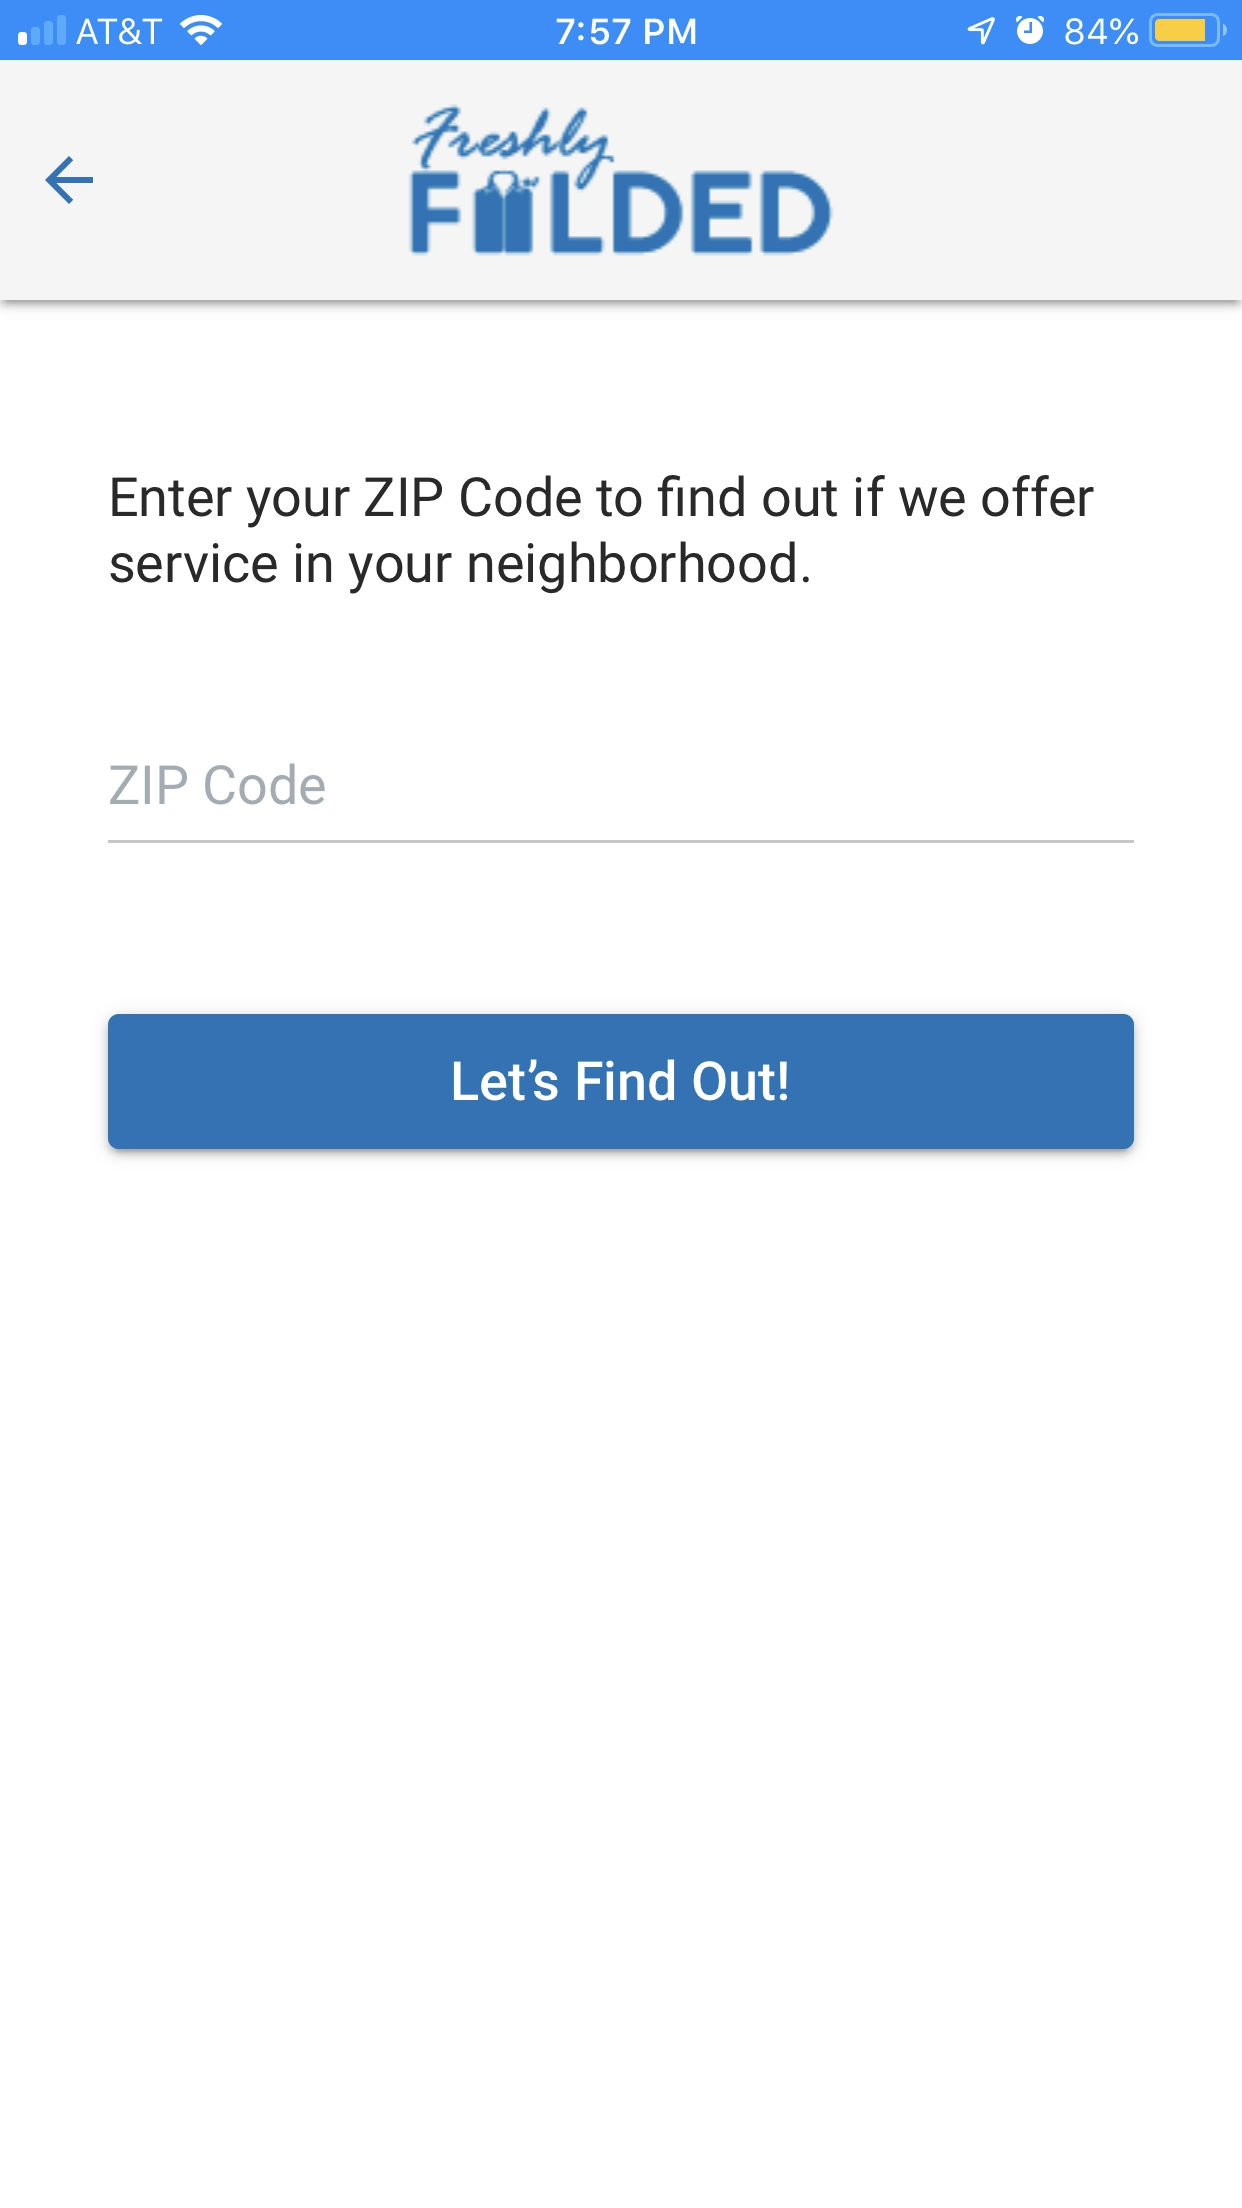EditText: (108, 763, 1134, 845)
Icon: (45, 156, 94, 206)
Image: (409, 108, 831, 256)
Text: (111, 475, 1095, 594), (109, 761, 328, 805)
TextButton: (108, 1013, 1134, 1149)
UpperTaskBar: (2, 2, 1242, 61)
